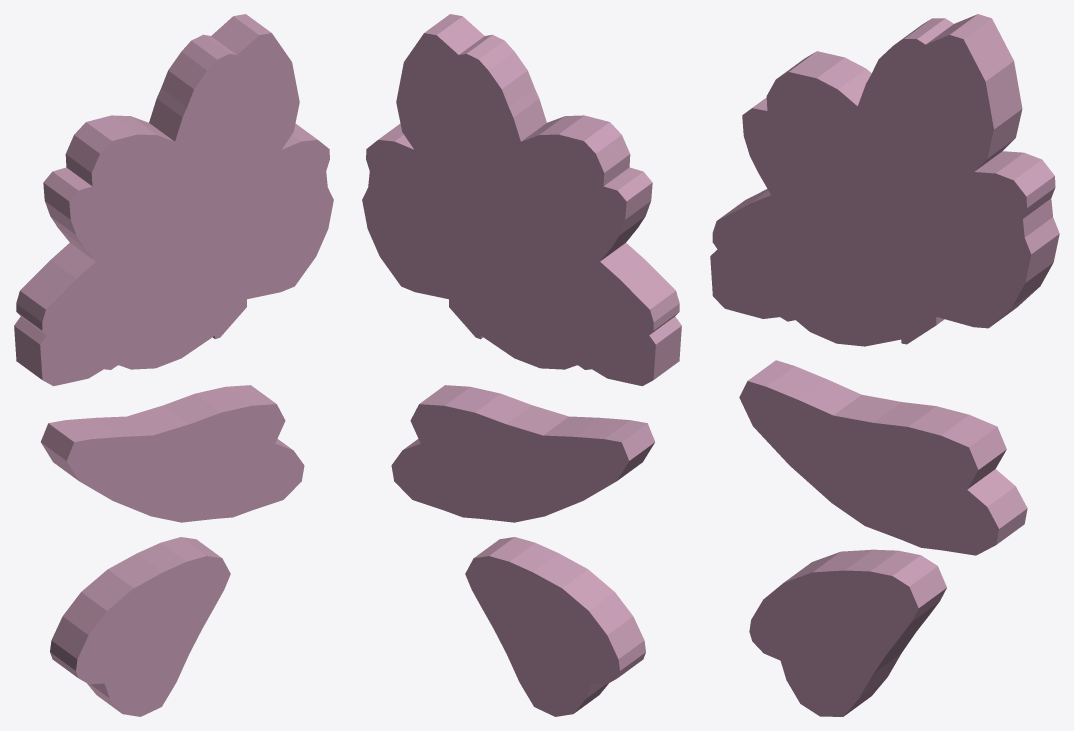
File: Sakura_3.fbx
The picture shows the model from 3 angles, left to right: view 1: azimuth 30°, elevation 25°; view 2: azimuth 150°, elevation 25°; view 3: azimuth 330°, elevation 25°; orthographic projection. The views are drawn at different scales.
Visible parts, largest first — view 1: polySurface11, polySurface12, polySurface9; view 2: polySurface11, polySurface12, polySurface9; view 3: polySurface11, polySurface12, polySurface9.
Boxes of the visible parts, <box> form: polySurface11: <box>14,14,333,386</box>; polySurface12: <box>41,385,304,522</box>; polySurface9: <box>50,537,230,716</box>; polySurface11: <box>362,14,681,386</box>; polySurface12: <box>391,385,654,522</box>; polySurface9: <box>465,537,645,716</box>; polySurface11: <box>710,14,1059,346</box>; polySurface12: <box>739,360,1027,555</box>; polySurface9: <box>749,549,946,716</box>.
Size of the model in its own units: 0.1512 by 0.3211 by 0.0232.
